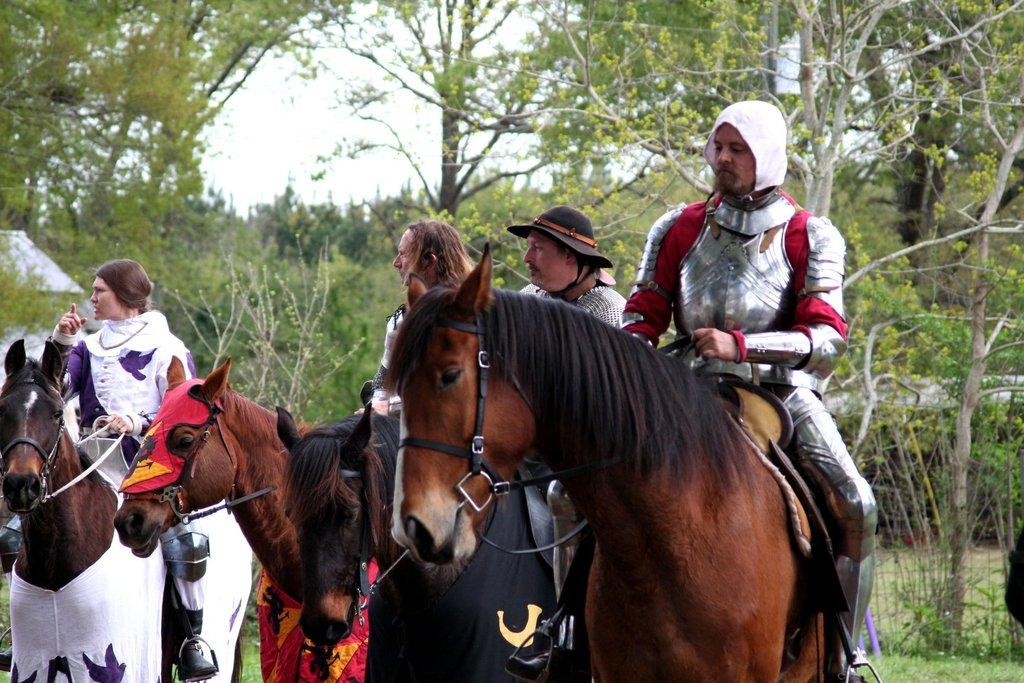Hat: (503, 204, 612, 299)
